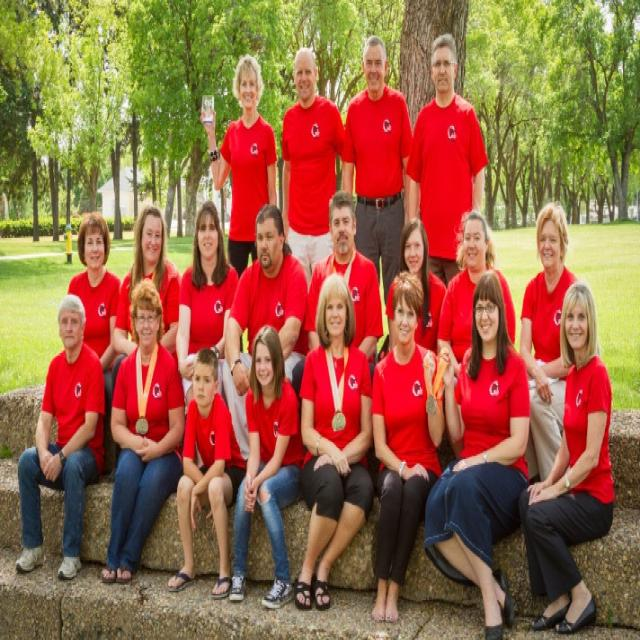body: (417, 261, 534, 638), (518, 275, 619, 638), (290, 268, 375, 616), (367, 266, 446, 626), (97, 275, 188, 586), (12, 289, 105, 586), (225, 316, 312, 612), (220, 195, 310, 473), (200, 54, 278, 353), (165, 336, 252, 602), (403, 30, 490, 288), (435, 207, 518, 474), (341, 34, 414, 307), (518, 200, 580, 483), (280, 46, 350, 293), (174, 198, 240, 408), (305, 188, 384, 360), (112, 201, 182, 373), (68, 210, 122, 401), (384, 215, 448, 359)
